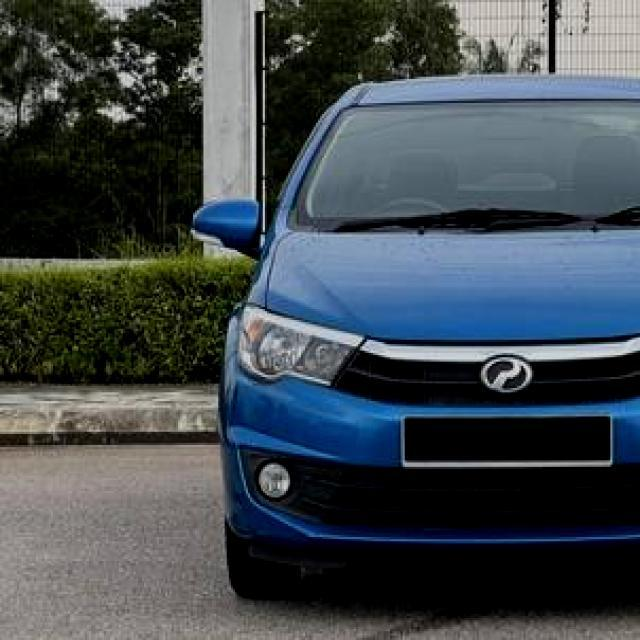PeroduaBezza: (192, 72, 639, 600)
